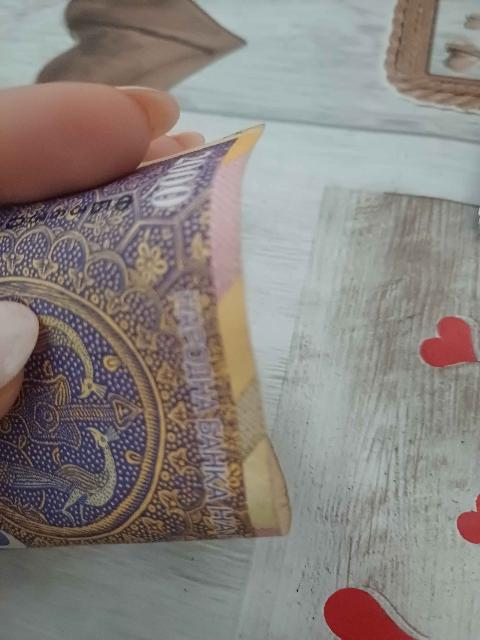note: (0, 128, 289, 546)
